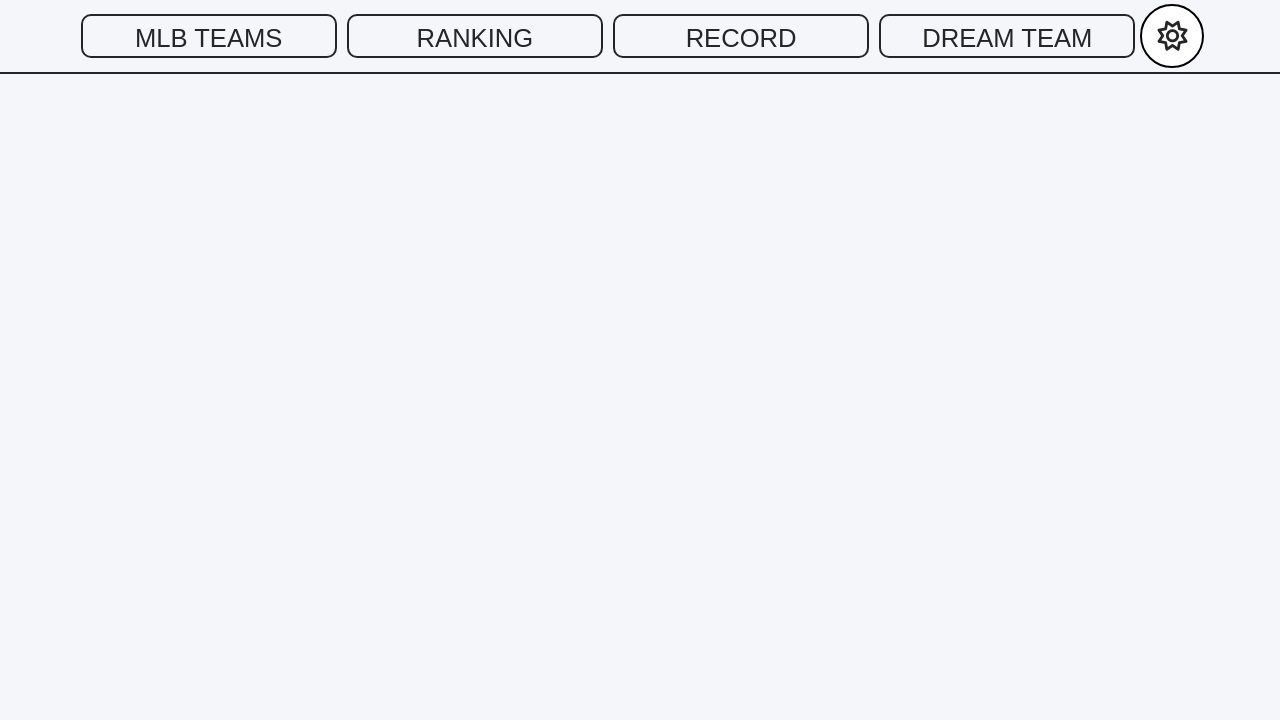
Test: Home Page › moves to dream team page
Click the button "DREAM TEAM". click: (1007, 36)
box: [879,14,1135,57]
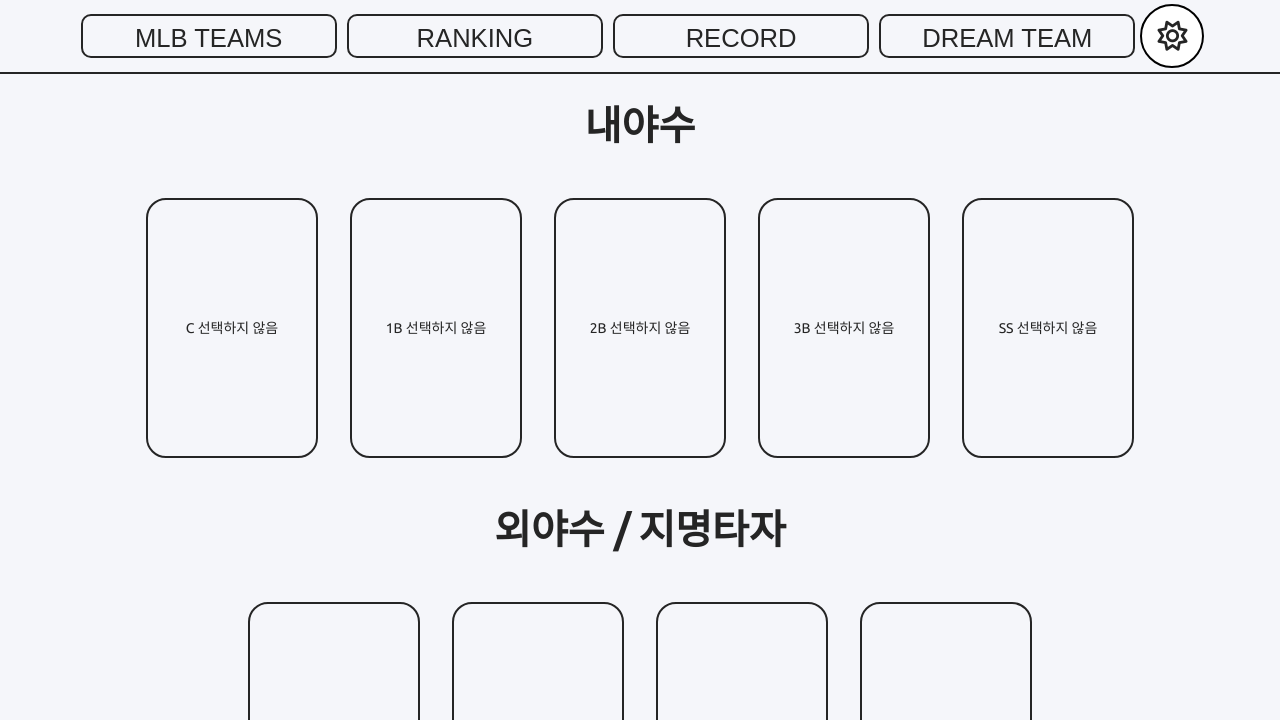
expect the text "내야수" is shown: met, box [585,106,695,146]
expect the text "외야수 / 지명타자" is shown: met, box [494,510,786,550]
